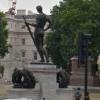Statue: (16, 3, 56, 60)
